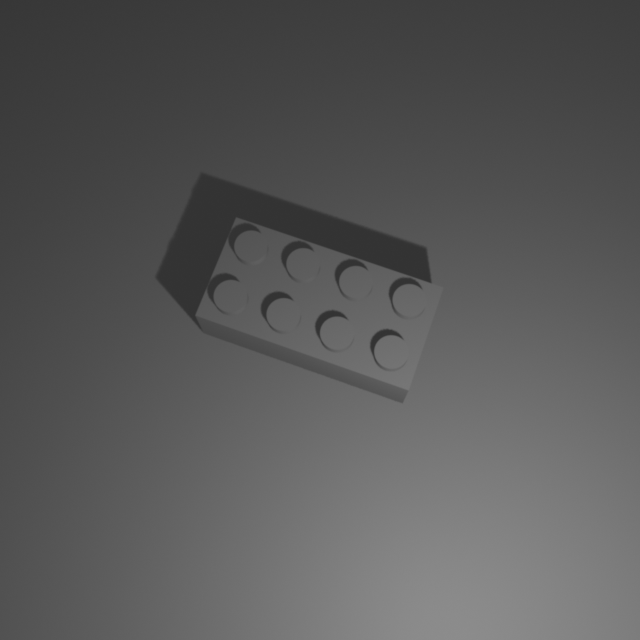lego_2x4: (194, 213, 445, 403)
